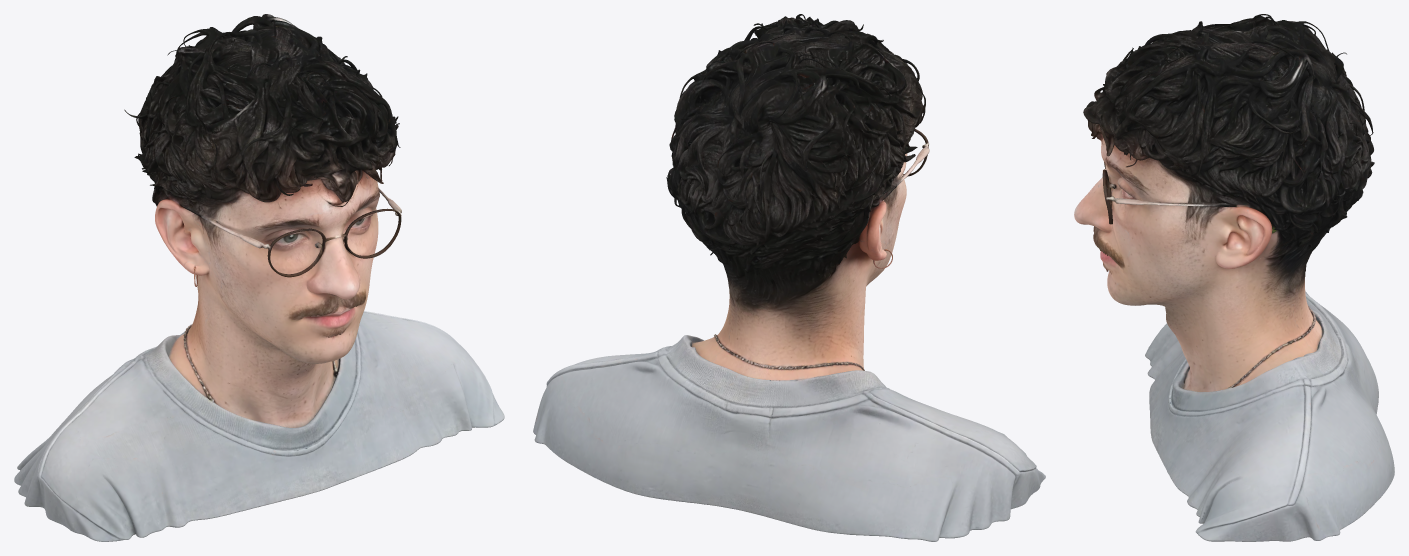
Rendered from model_medium.glb.
The picture shows the model from 3 angles, left to right: view 1: azimuth 30°, elevation 25°; view 2: azimuth 150°, elevation 25°; view 3: azimuth 270°, elevation 25°; orthographic projection. The views are drawn at different scales.
Visible parts, largest first — view 1: model; view 2: model; view 3: model.
Part boxes in pixels (x1,y1,x2,y2): model: (14, 14, 504, 541); model: (533, 14, 1045, 541); model: (1074, 14, 1394, 541).
Bounding box in the file's own units: 62008 × 55157 × 39343.
Materials: 1 (1 with a texture image).
